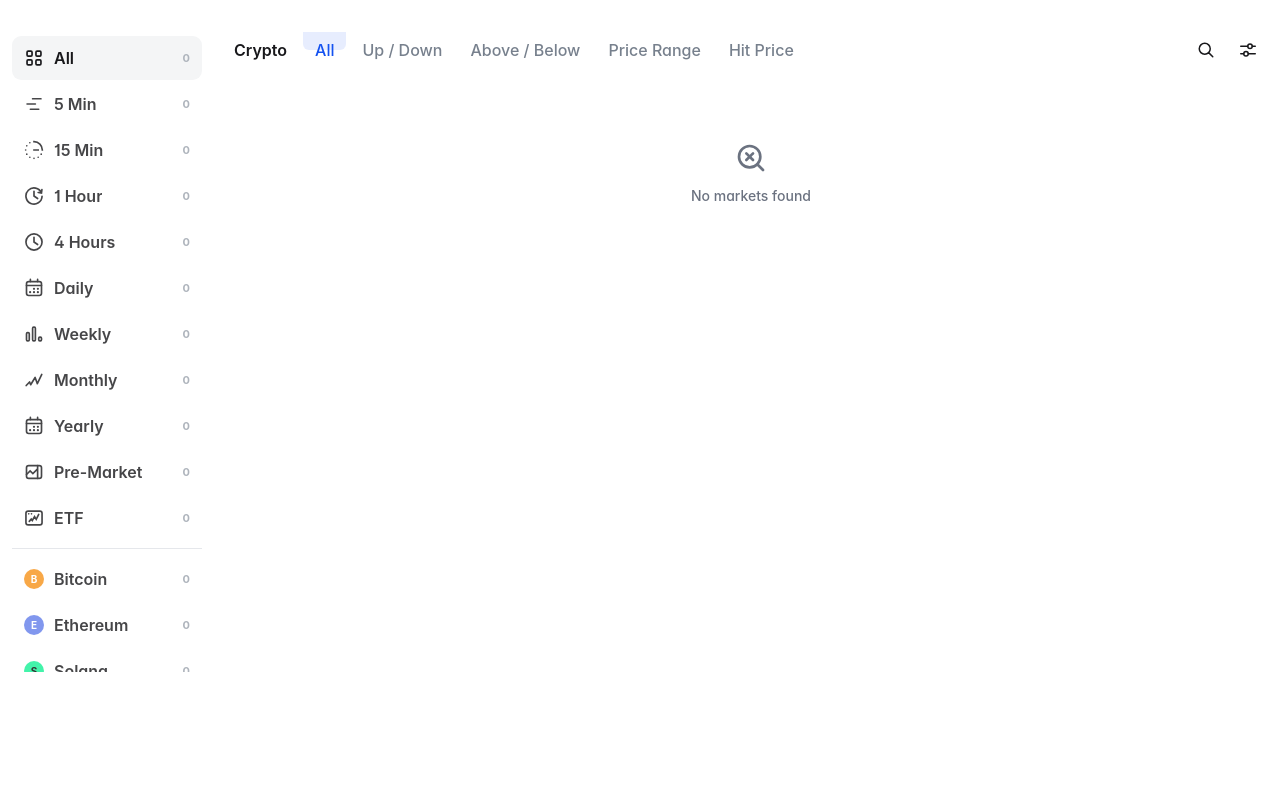
it: CryptoPageView › opens the period filter menu from the All chip
Click the button named "Toggle filters" at point(1248, 50), box [1228, 30, 1268, 70]
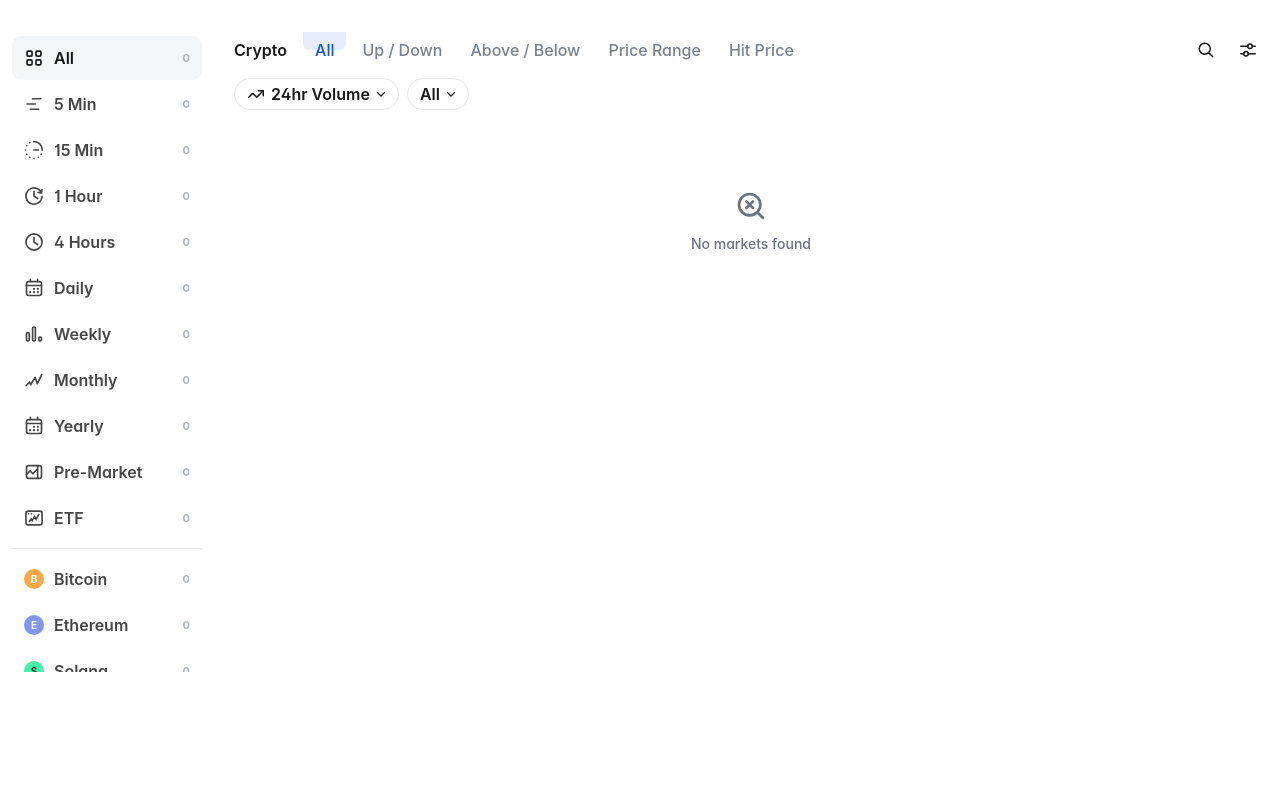
Click the button "All" at point(438, 94), box [407, 78, 469, 110]
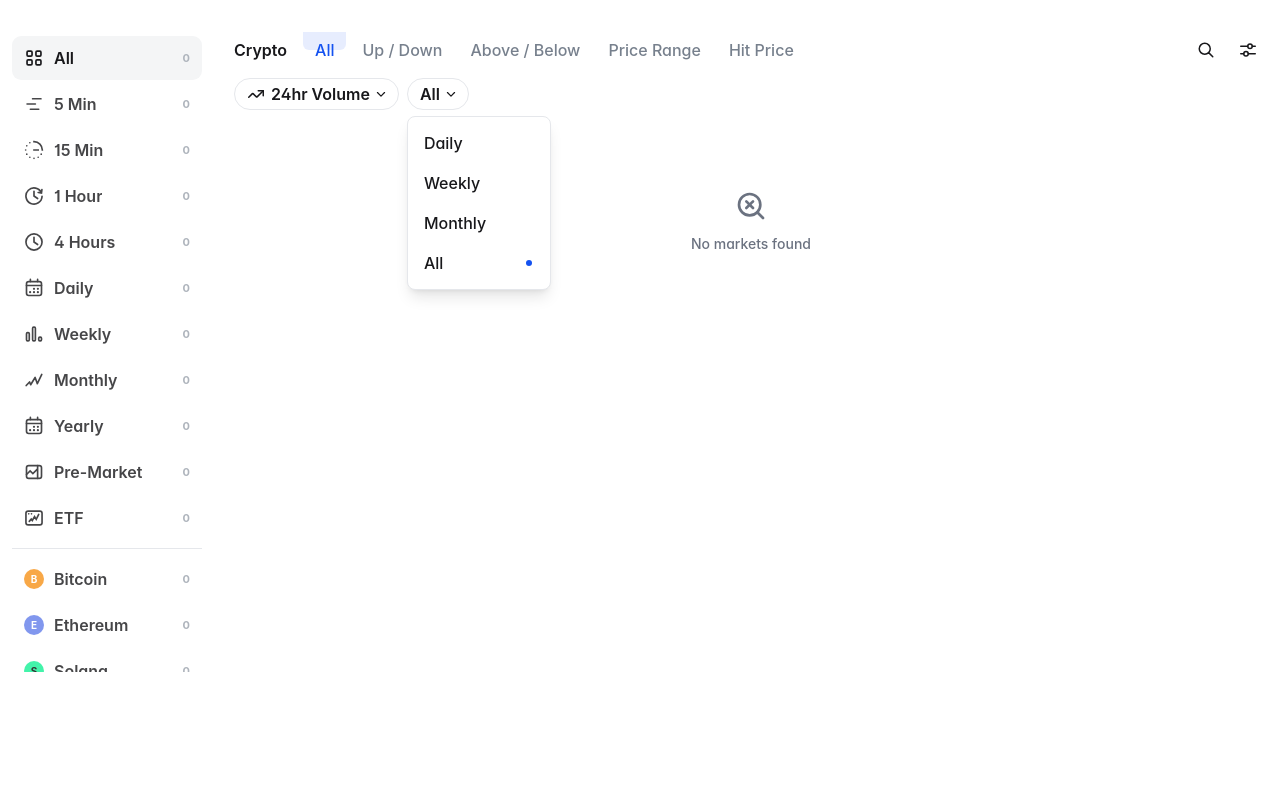
expect the menu item "Daily" is shown: met
expect the menu item "Weekly" is shown: met, box [414, 163, 544, 203]
expect the menu item "Monthly" is shown: met, box [414, 203, 544, 243]
Click the menu item "Daily" at point(479, 143), box [414, 123, 544, 163]
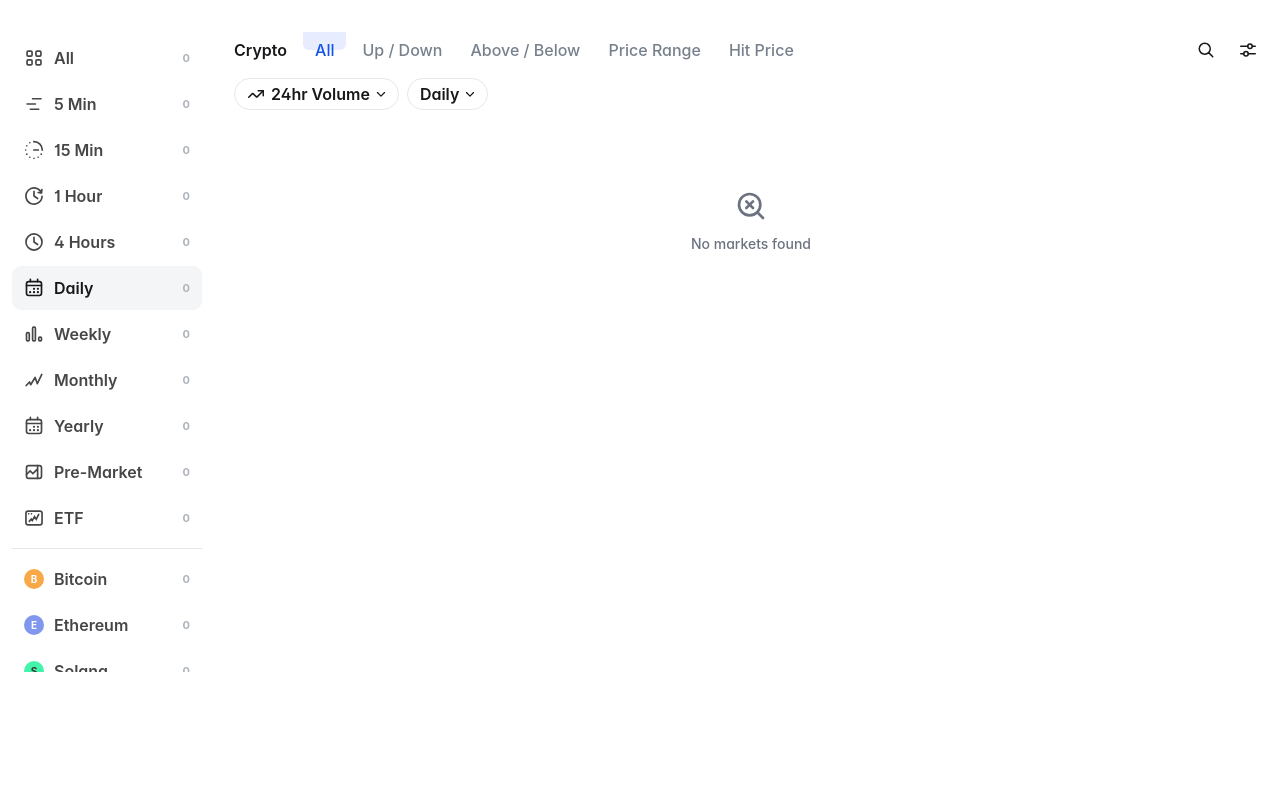
expect the menu is gone: met
